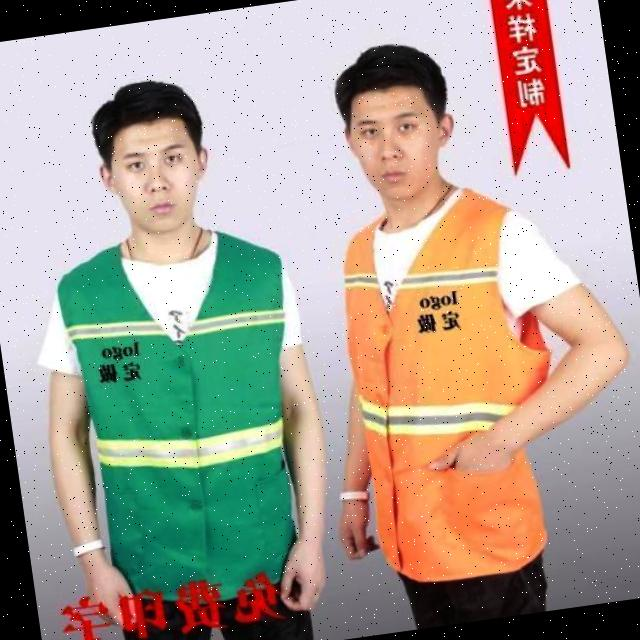vest: (54, 226, 308, 600), (341, 188, 560, 582)
